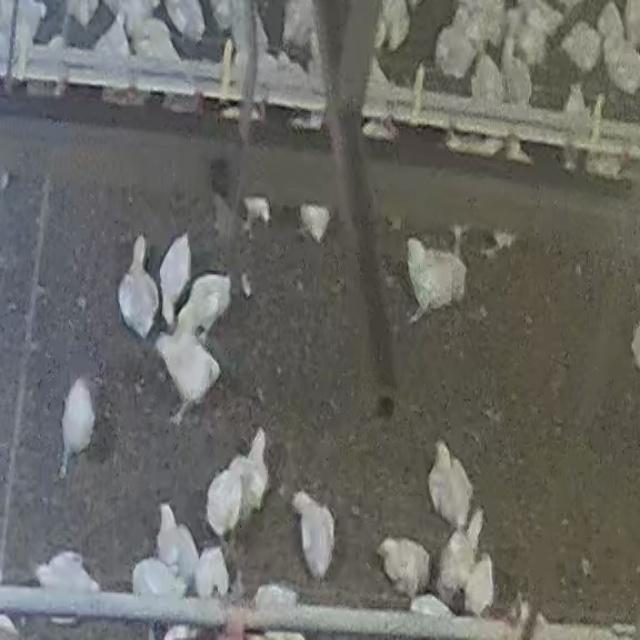chicken: (154, 313, 222, 425), (401, 234, 467, 331), (110, 233, 162, 341), (434, 505, 488, 595), (53, 372, 97, 480), (290, 488, 338, 582), (427, 438, 473, 528), (177, 272, 233, 344), (157, 232, 192, 332), (377, 535, 431, 599), (155, 503, 198, 582), (206, 466, 244, 538), (242, 428, 270, 512)
